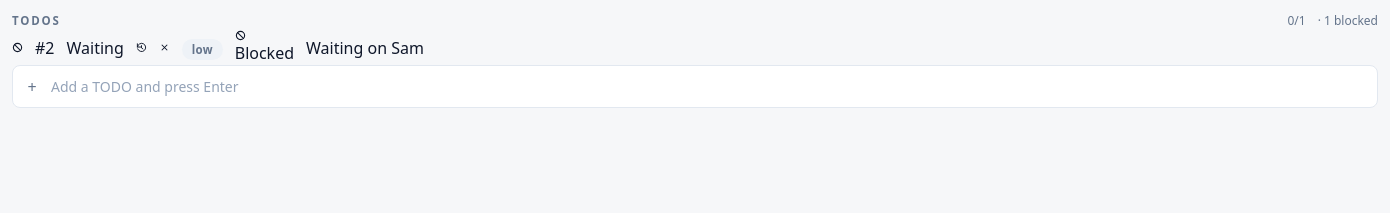
TodosSection blocked unblock badge and touch block editor › touch: tapping the blocked reason enters edit mode
What coordinates should you click on to do the following:
click the button "Waiting on Sam"
I would click on:
 (365, 48)
Its box is [306,36,424,60].
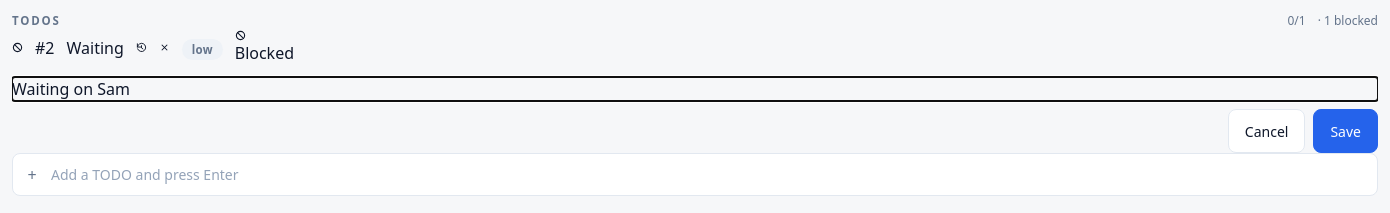
Result: the field named "Blocked reason, optional" holds "Waiting on Sam" at [12,77,1378,101]
